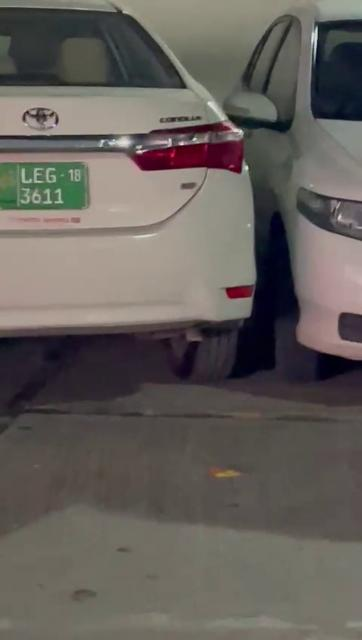plate: (0, 160, 90, 212)
